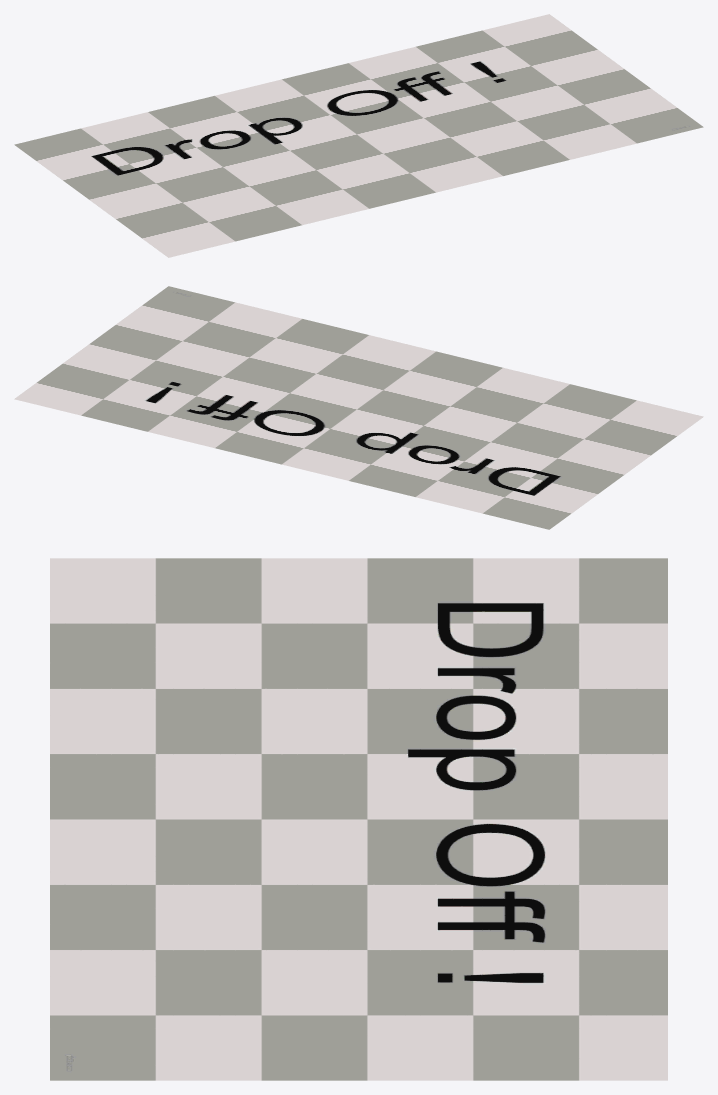
The model's file is 6-dropoff_message.obj.
3 renders of one model, top to bottom at view 1: azimuth 30°, elevation 25°; view 2: azimuth 150°, elevation 25°; view 3: azimuth 270°, elevation 25°, orthographic. The views are drawn at different scales.
Parts seen in each view (by area): view 1: 6-DropOff Message; view 2: 6-DropOff Message; view 3: 6-DropOff Message.
Part boxes in pixels (<box>): 6-DropOff Message: <box>14,14,703,257</box>; 6-DropOff Message: <box>14,286,703,529</box>; 6-DropOff Message: <box>50,558,667,1080</box>.
Size of the model in its own units: 2 by 5.96e-08 by 1.
1 material, 1 textured.
